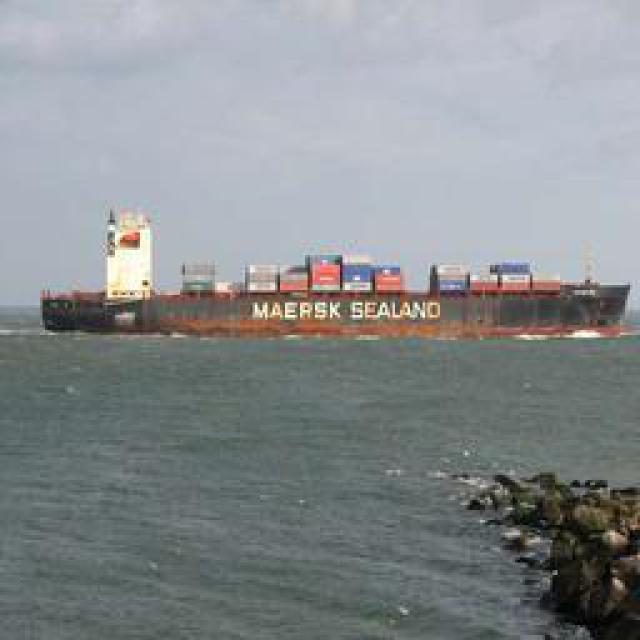Ship: (44, 225, 627, 343)
